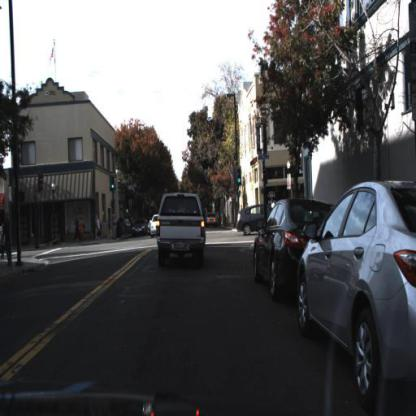car: (295, 169, 416, 408), (250, 197, 336, 299), (156, 184, 209, 272), (235, 204, 276, 235), (150, 213, 163, 241)
pedestrian: (3, 213, 14, 268), (74, 214, 83, 245), (78, 217, 88, 242), (95, 214, 103, 240), (112, 213, 118, 241), (119, 213, 125, 240)
trafficLight-Green: (236, 166, 245, 187), (111, 176, 117, 192)
